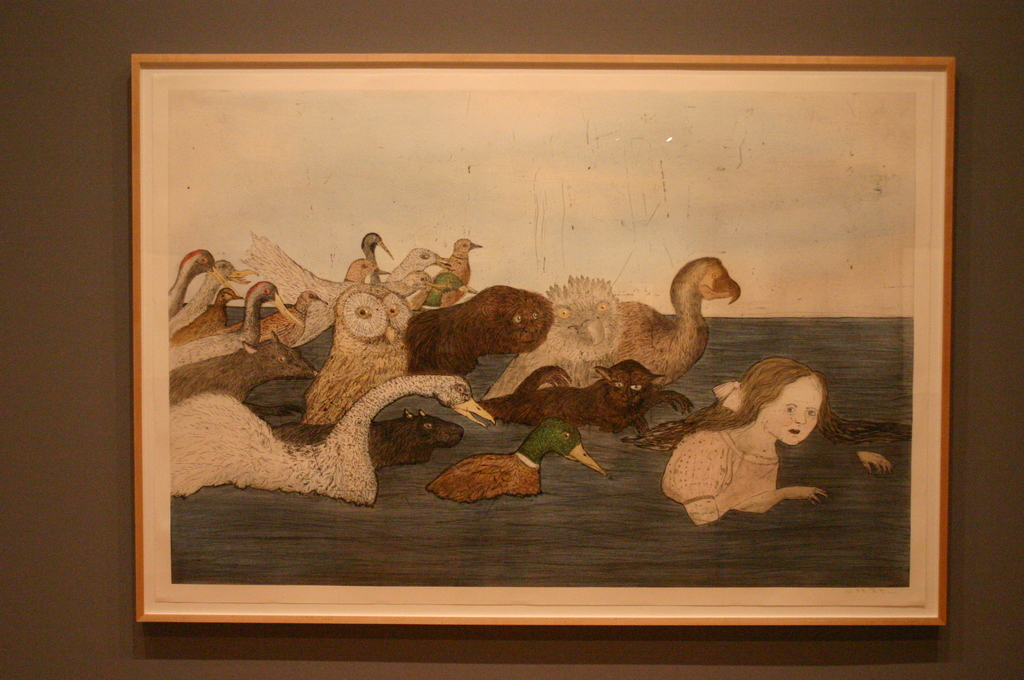Animal: (161, 230, 737, 508)
